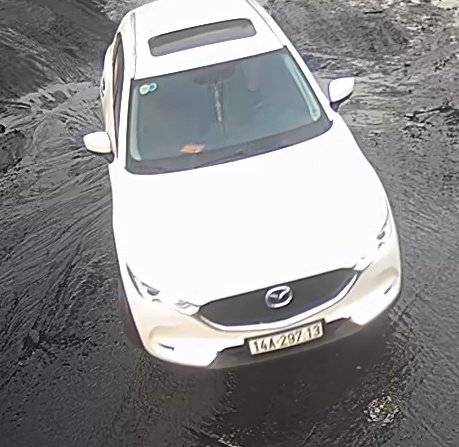vehicle plate: (239, 319, 330, 355)
